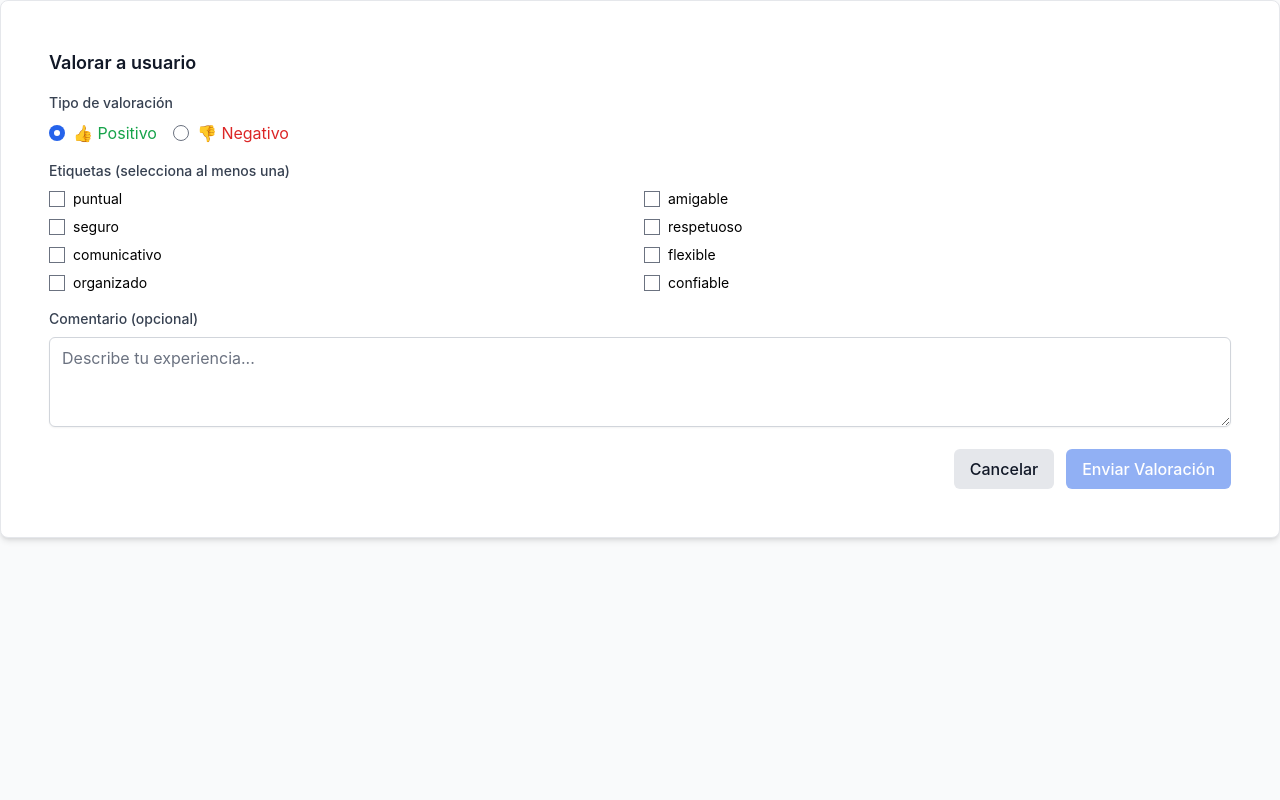
Test case: RatingForm › should submit rating successfully and show success message
Select a tag
Click the checkbox labelled "puntual" at [57, 199], box [49,191,65,207]
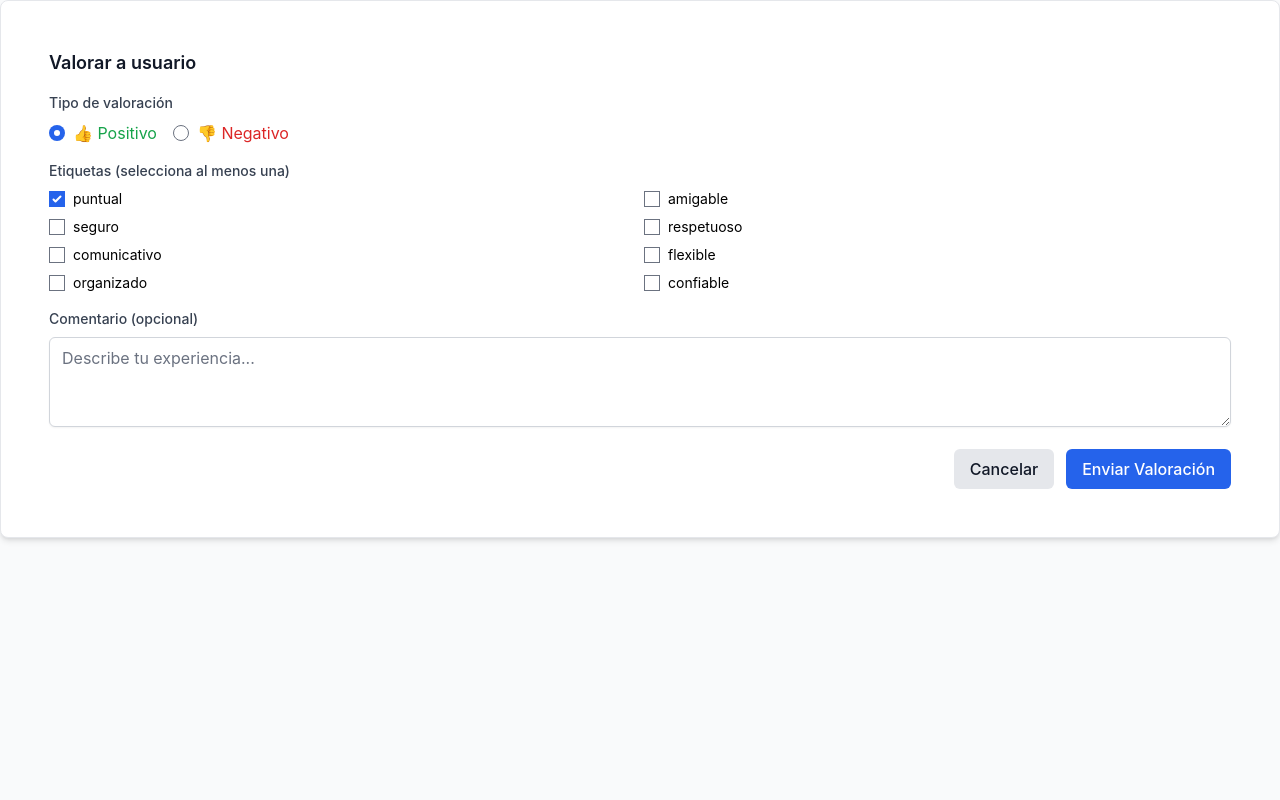
Submit form
Click the button "Enviar Valoración" at [1149, 469], box [1066,449,1231,489]
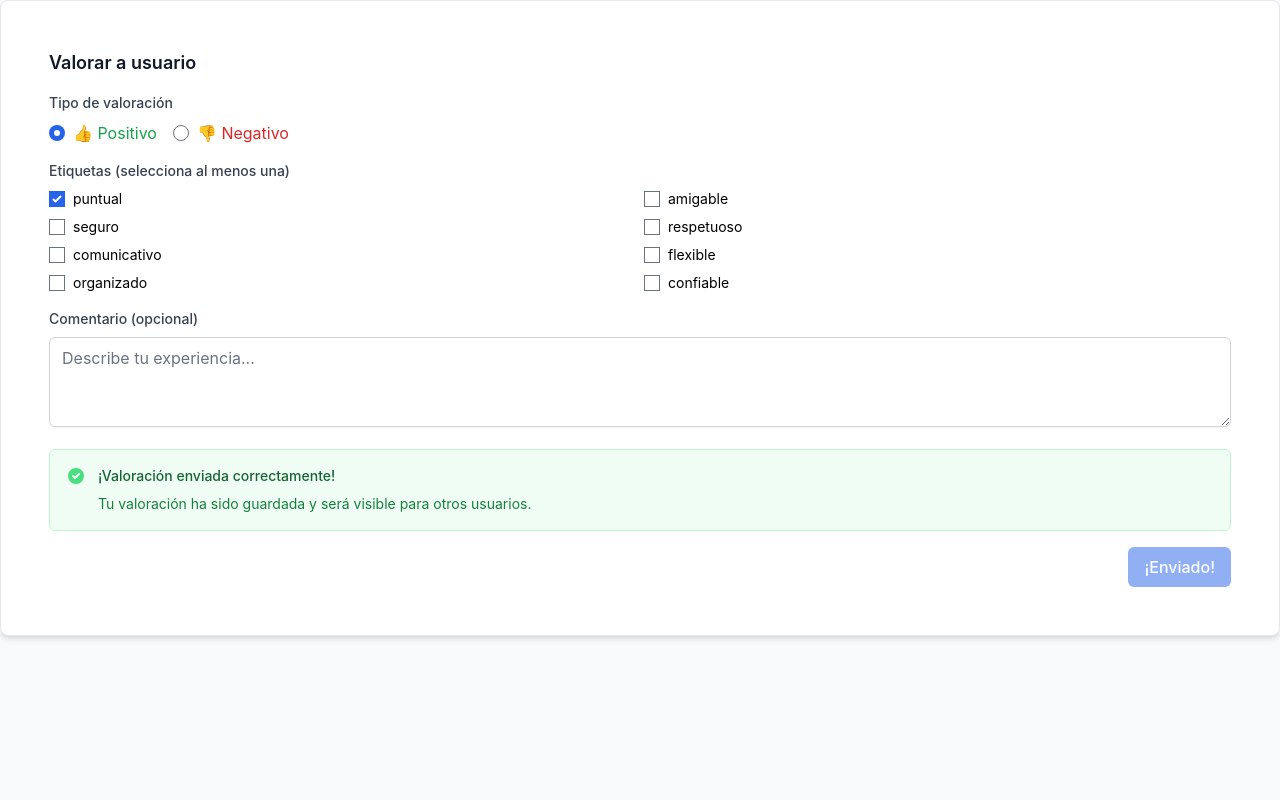
Now the heading "¡Valoración enviada correctamente!" is shown, box [98,467,335,484]
Now the text "Tu valoración ha sido guardada y será visible para otros usuarios." is shown, box [98,494,532,514]
Now the button "¡Enviado!" is shown, box [1128,547,1231,587]
